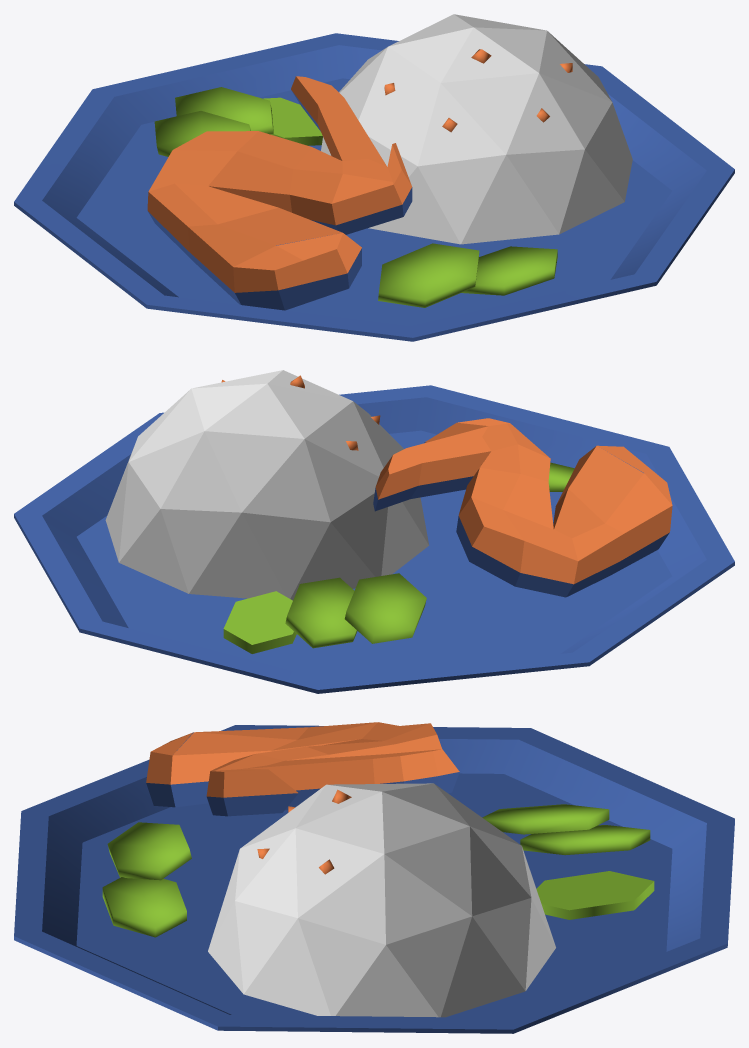
The model's file is NASCOM.FBX.
3 renders of one model, top to bottom at view 1: azimuth 30°, elevation 25°; view 2: azimuth 150°, elevation 25°; view 3: azimuth 270°, elevation 25°, orthographic. The views are drawn at different scales.
Visible parts, largest first — view 1: Plane01; view 2: Plane01; view 3: Plane01.
Part boxes in pixels (x1,y1,x2,y2): Plane01: [14, 14, 734, 341]; Plane01: [14, 370, 734, 693]; Plane01: [14, 722, 734, 1033].
Size of the model in its own units: 33.06 by 8.25 by 33.06.
